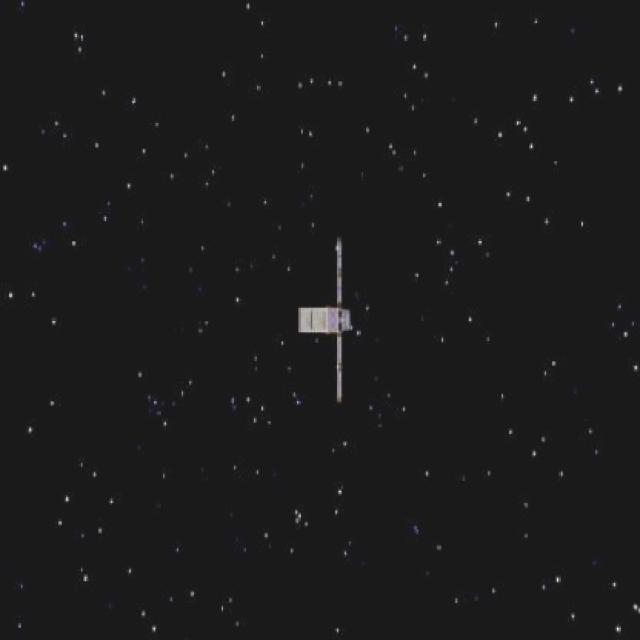medium_debris: (285, 240, 377, 406)
